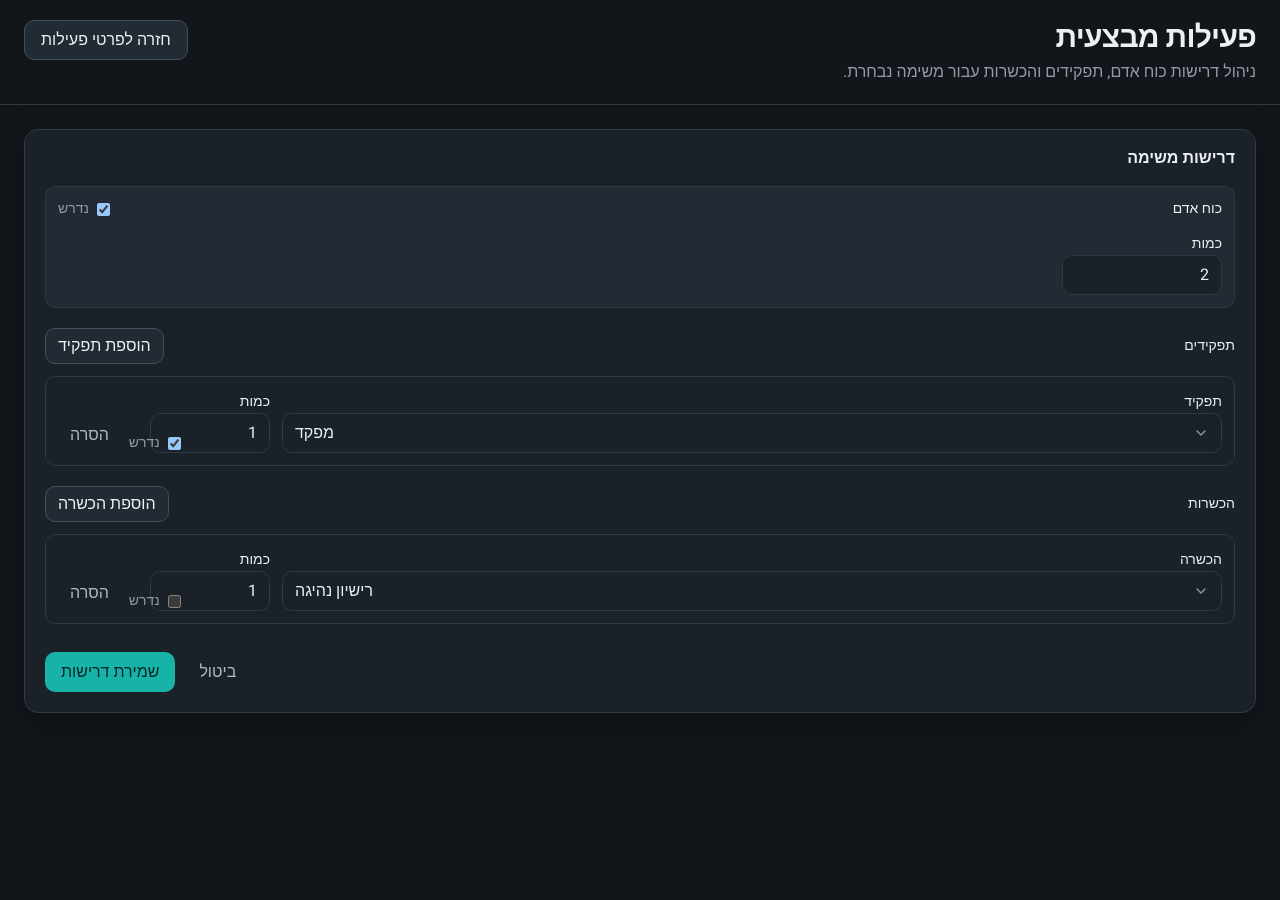
ActivityTaskRequirementsPage › keeps form values after backend rejection and surfaces the error
The width and height of the screenshot is (1280, 900).
Replace the text in the number field labelled "כמות" with "7" at (1142, 275), box [1062,255,1222,295]
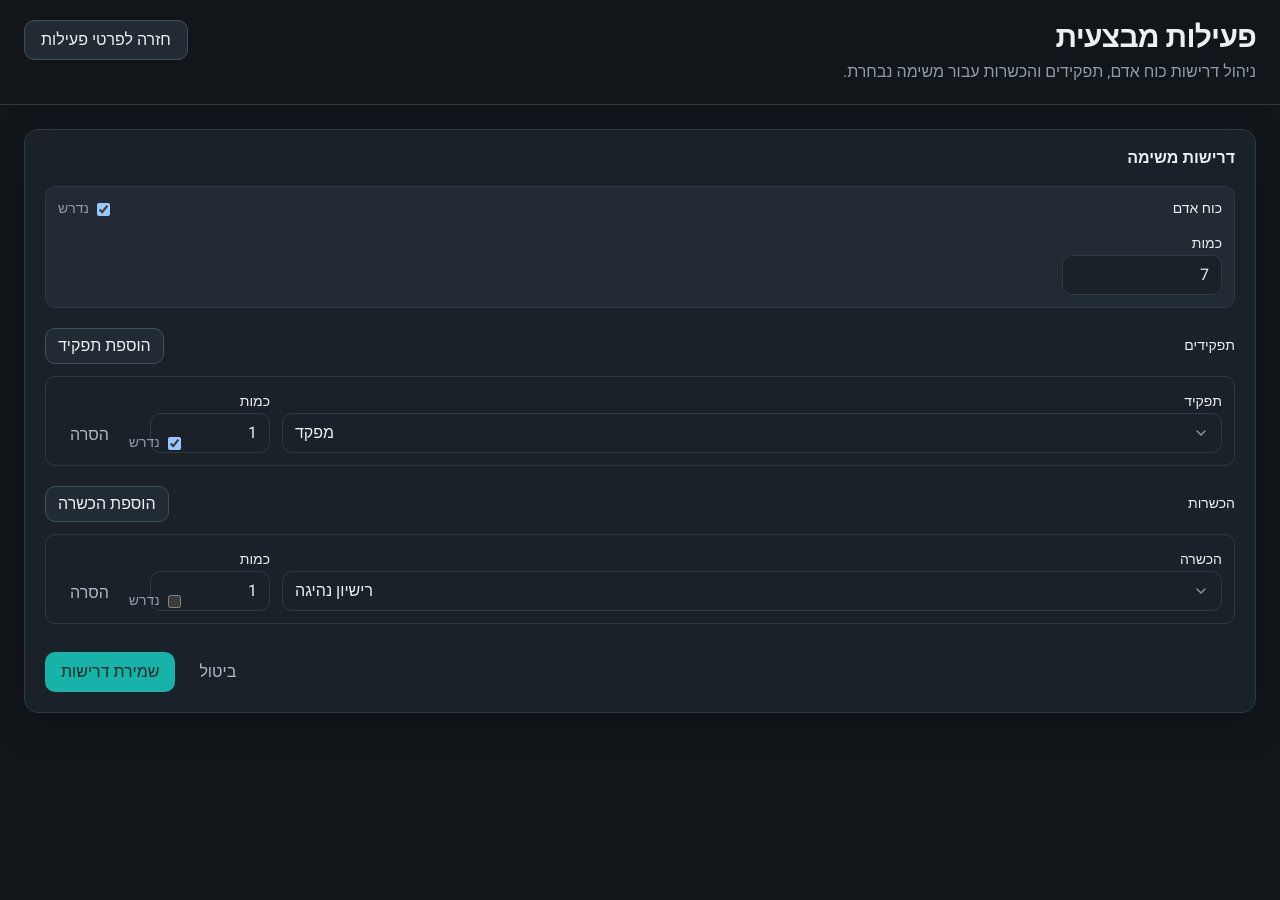
Click the button "שמירת דרישות" at (110, 672), box [45,652,175,692]
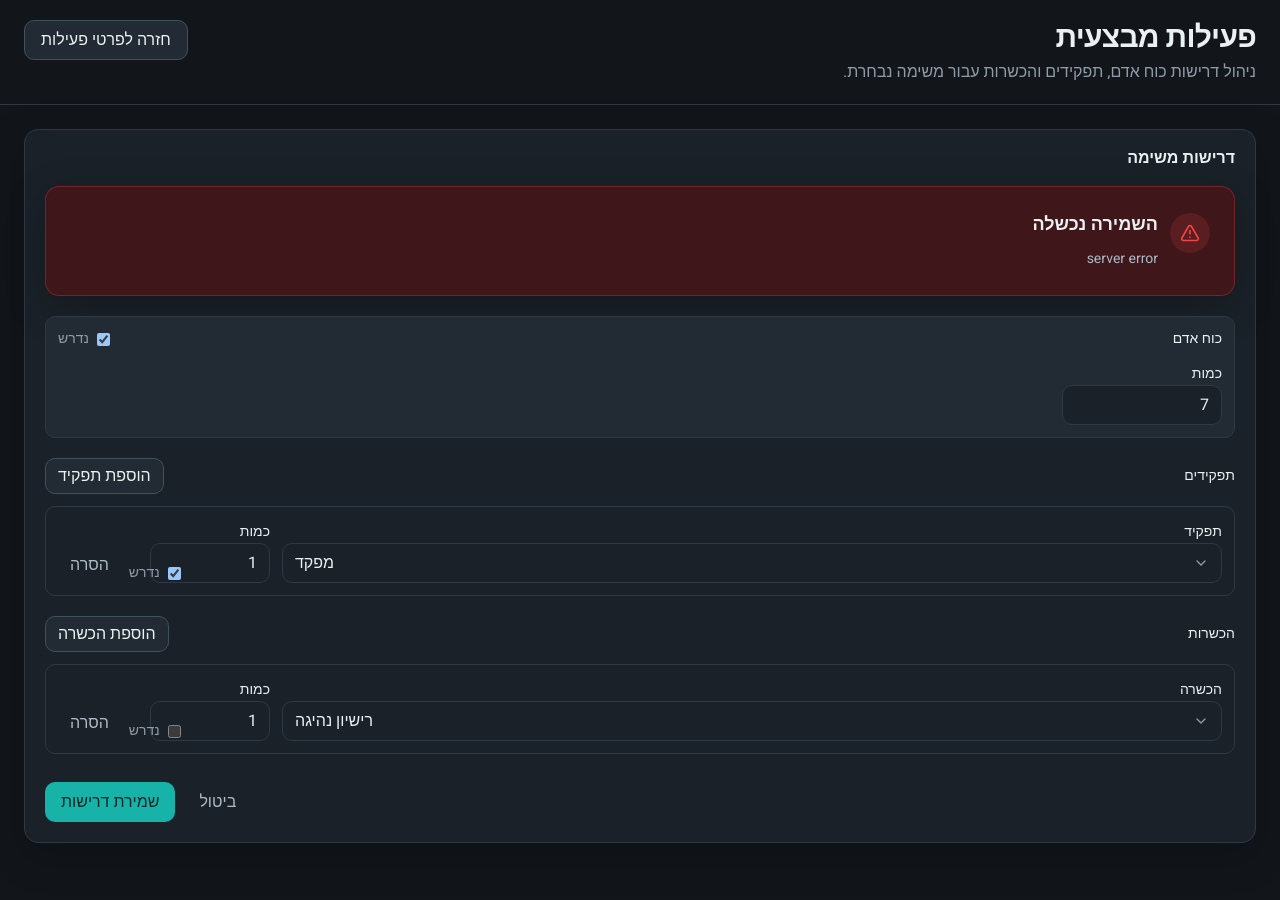
Expected: the heading "השמירה נכשלה" is shown, [1032,211,1158,239]
